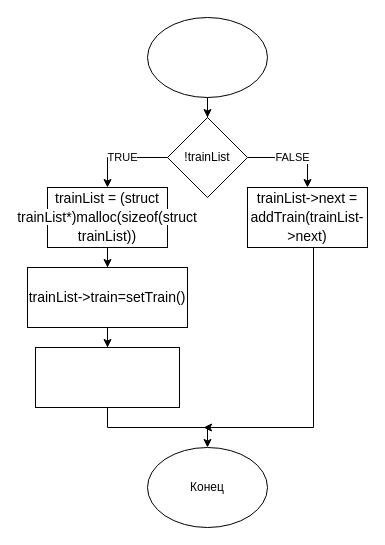
The diagram is 385 pixels wide and 545 high, and some of its shapes have lost their labels. The shapes that lost their labels are listed below. From the top down, each one's centre as x and y in pixels, then its label:
At (x=207, y=57): "Начало addTrain".
At (x=107, y=377): "trainList->next=NULL".
